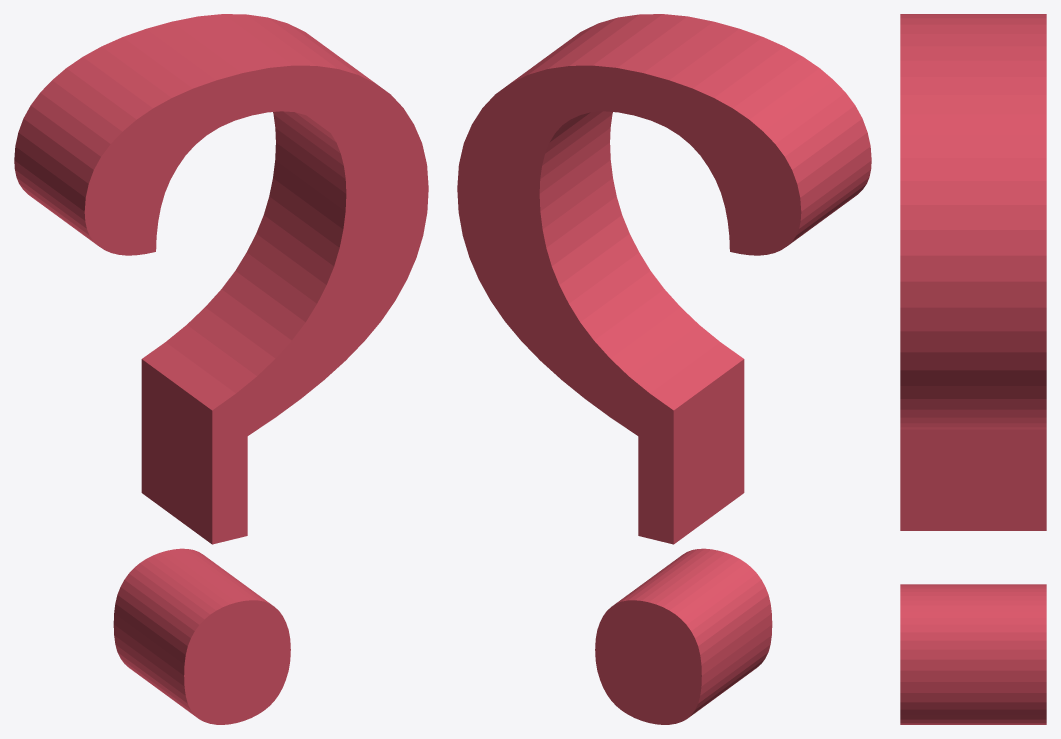
The model's file is QuestionMark.fbx.
The picture shows the model from 3 angles, left to right: view 1: azimuth 30°, elevation 25°; view 2: azimuth 150°, elevation 25°; view 3: azimuth 270°, elevation 25°; orthographic projection. The views are drawn at different scales.
Parts seen in each view (by area): view 1: tinker:group_0_15277357; view 2: tinker:group_0_15277357; view 3: tinker:group_0_15277357.
Boxes of the visible parts, x1,y1,x2,y2 form: tinker:group_0_15277357: (14, 14, 428, 724); tinker:group_0_15277357: (457, 14, 871, 724); tinker:group_0_15277357: (900, 14, 1046, 724).
Size of the model in its own units: 11.28 by 20.32 by 4.
